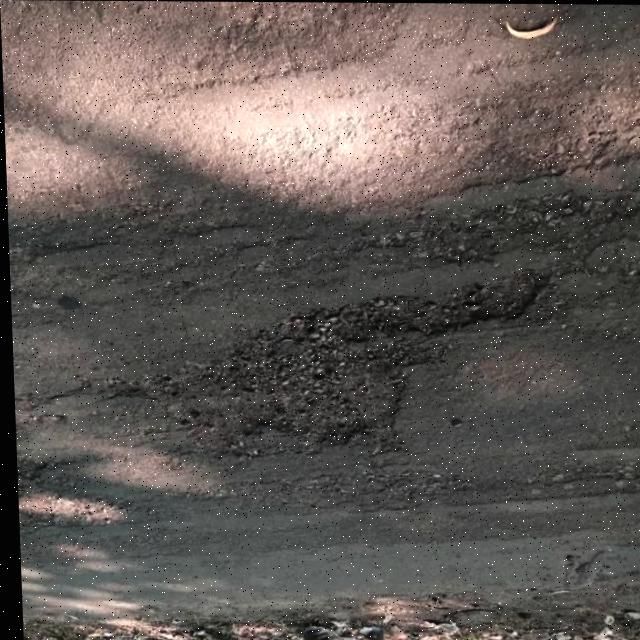Pothole: (90, 262, 554, 465), (13, 448, 48, 487)
